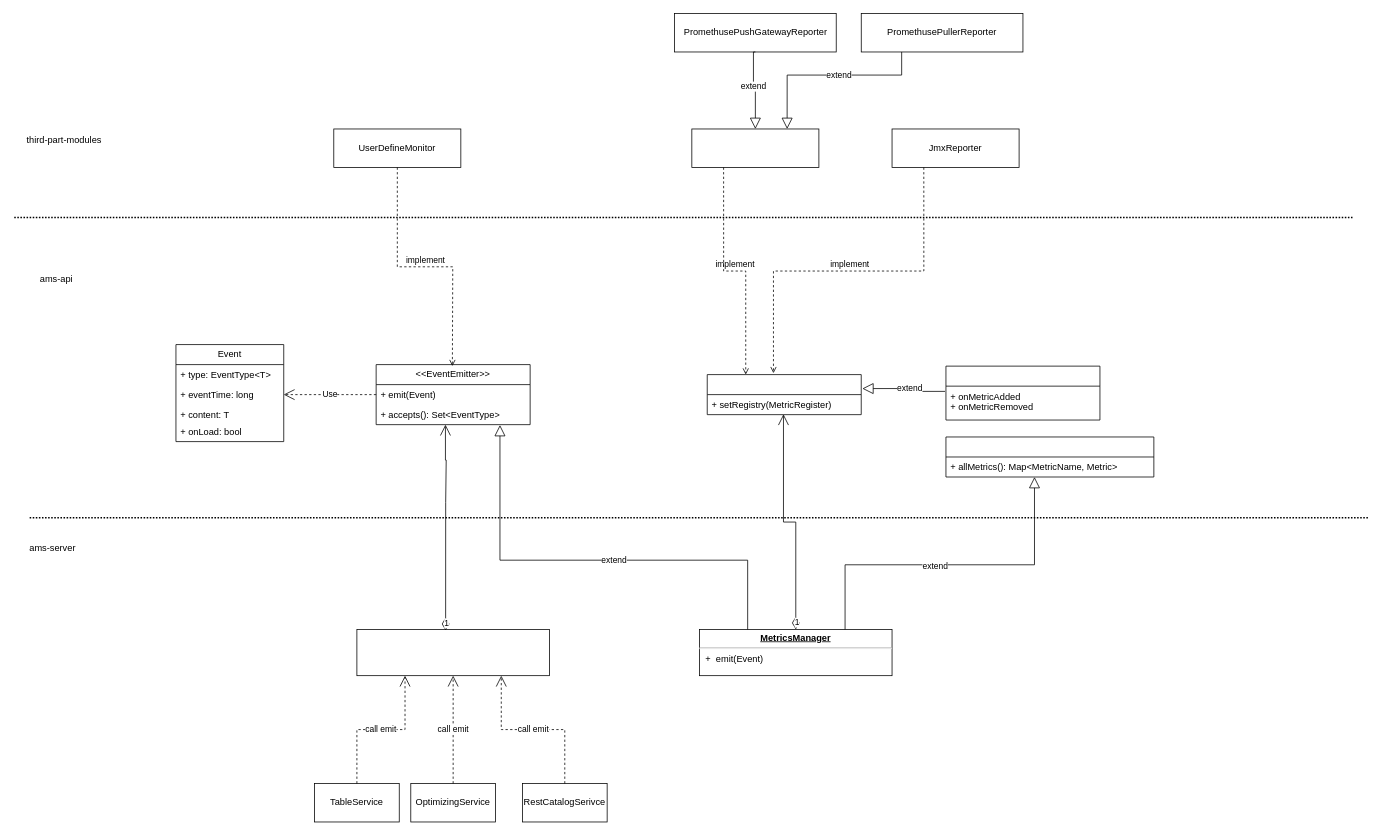
This 1383x835 diagram has some shape labels left out. Here are the shapes that lost their labels. From the top down, the box of each, then its label:
(691, 128, 819, 167): PromethuseReporter
(706, 374, 861, 415): <<MetricReporter>>
(945, 365, 1100, 420): <<MetricListener>>
(945, 436, 1154, 477): <<MetricRegister>>
(356, 629, 549, 676): EventsManager + emit(Event)
